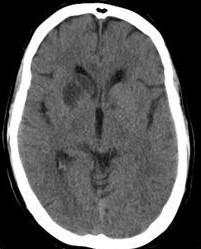Normal_Brain: (3, 4, 201, 249)
